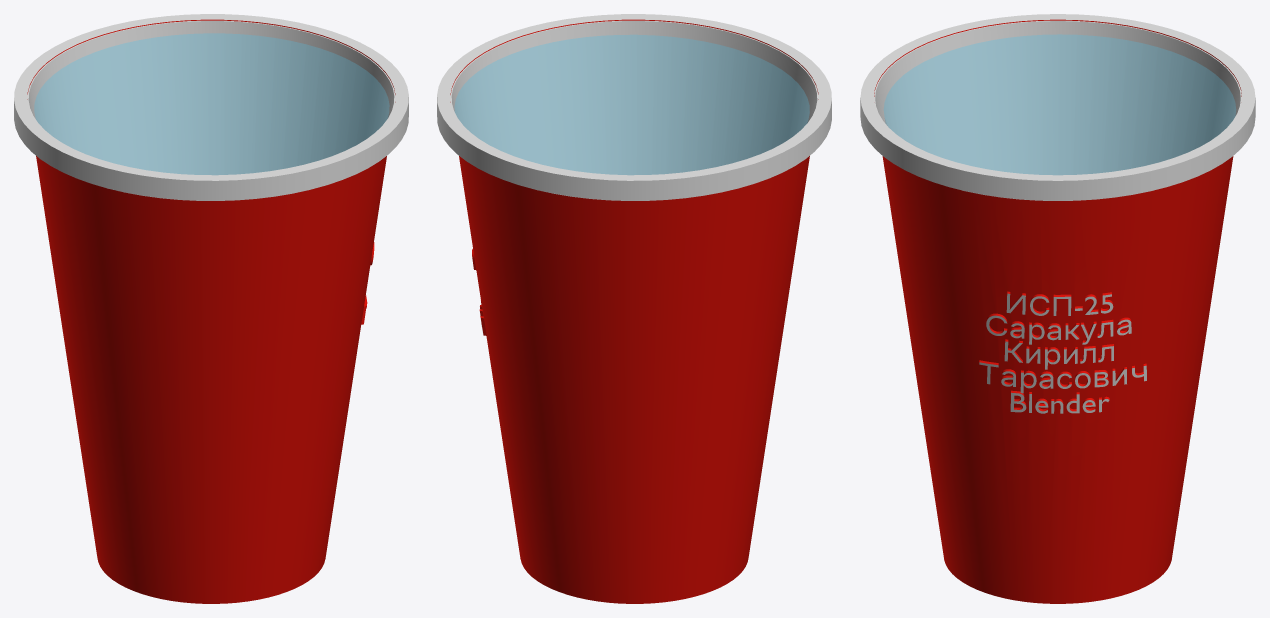
The model's file is cup.glb.
3 renders of one model, left to right at view 1: azimuth 30°, elevation 25°; view 2: azimuth 150°, elevation 25°; view 3: azimuth 270°, elevation 25°, orthographic.
Parts seen in each view (by area): view 1: Цилиндр.002, Цилиндр.003; view 2: Цилиндр.002, Цилиндр.003; view 3: Цилиндр.002, Цилиндр.003.
Part boxes in pixels (x1=…): Цилиндр.002: x1=14, y1=14, x2=408, y2=603; Цилиндр.003: x1=34, y1=33, x2=389, y2=174; Цилиндр.002: x1=437, y1=14, x2=831, y2=603; Цилиндр.003: x1=454, y1=35, x2=809, y2=174; Цилиндр.002: x1=860, y1=14, x2=1255, y2=603; Цилиндр.003: x1=884, y1=34, x2=1235, y2=174.
Bounding box in the file's own units: 3.86 × 4.94 × 3.86.
